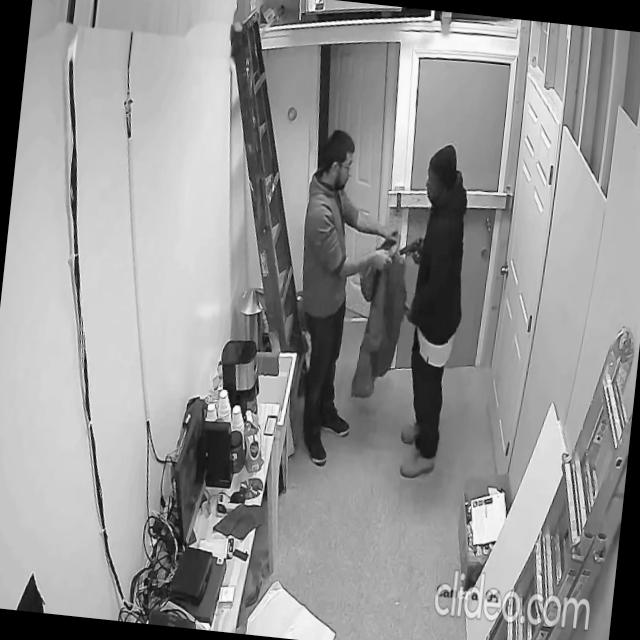gun: (398, 236, 421, 264)
person: (280, 125, 409, 472), (389, 140, 480, 483)
person with a gun: (376, 136, 480, 481)
